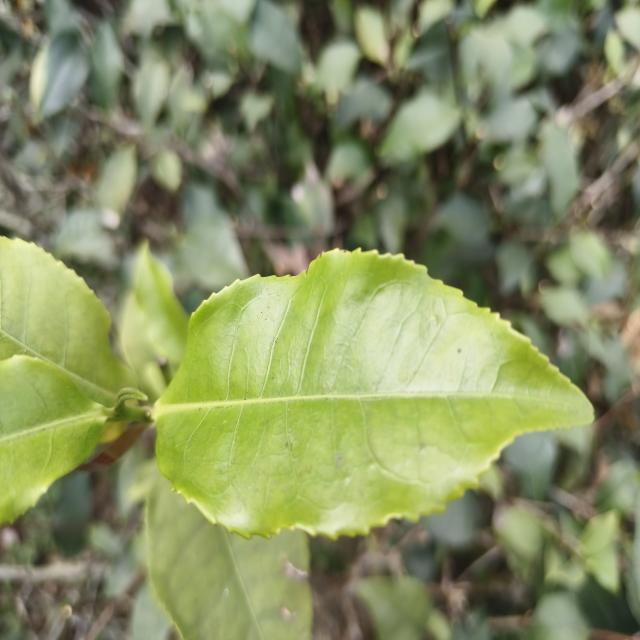Leaf: (154, 250, 593, 537), (146, 475, 312, 640), (0, 237, 135, 406), (0, 355, 112, 524), (133, 244, 189, 366), (379, 90, 460, 162), (29, 31, 89, 117), (356, 576, 432, 640), (250, 0, 301, 75), (503, 432, 558, 500), (90, 21, 124, 110), (433, 193, 489, 245), (133, 49, 169, 129), (96, 145, 137, 214), (131, 584, 171, 640)
